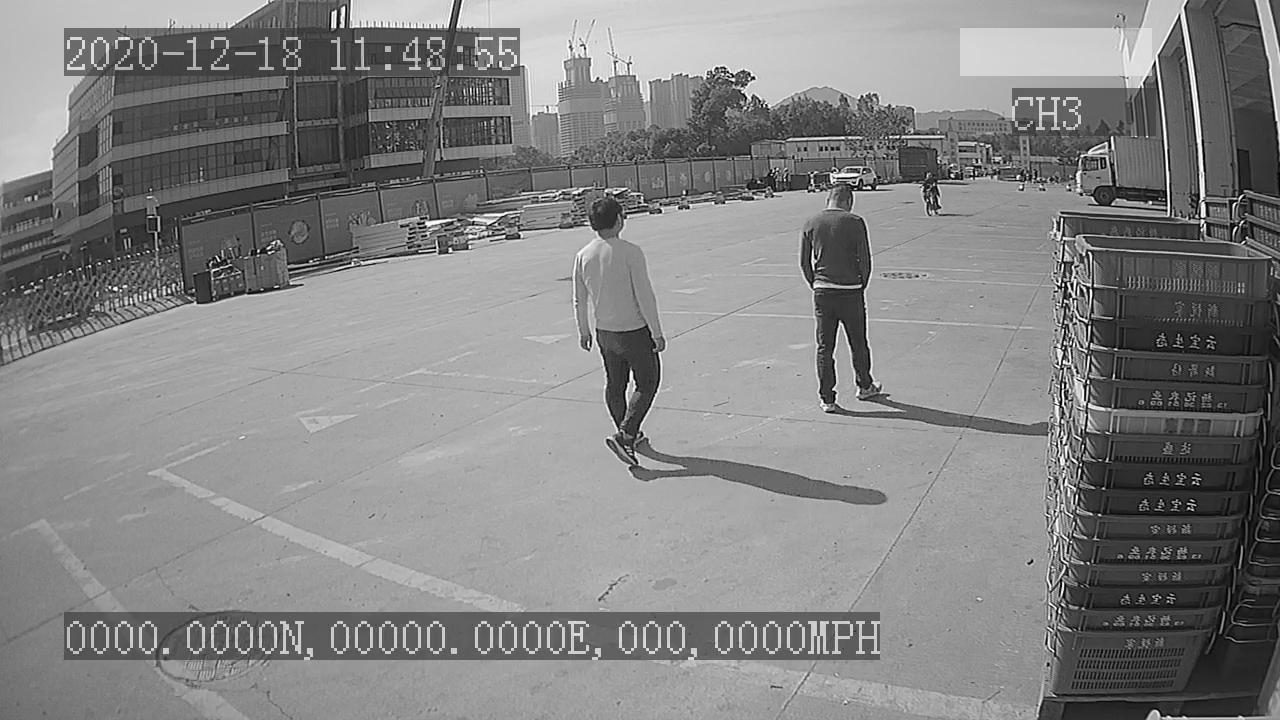person: (570, 194, 668, 472), (795, 177, 884, 413)
